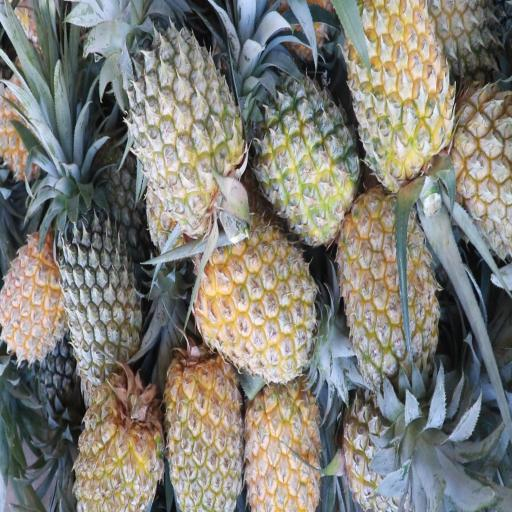------------------------------: (129, 22, 239, 219), (260, 77, 357, 241), (340, 386, 426, 510)
Pineapple - v8 v1: (198, 216, 318, 376), (344, 0, 452, 173), (336, 196, 438, 375), (77, 361, 168, 512), (166, 352, 245, 512), (250, 378, 325, 512), (3, 221, 76, 355)
